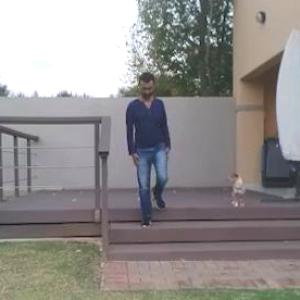follow: (127, 66, 171, 238)
